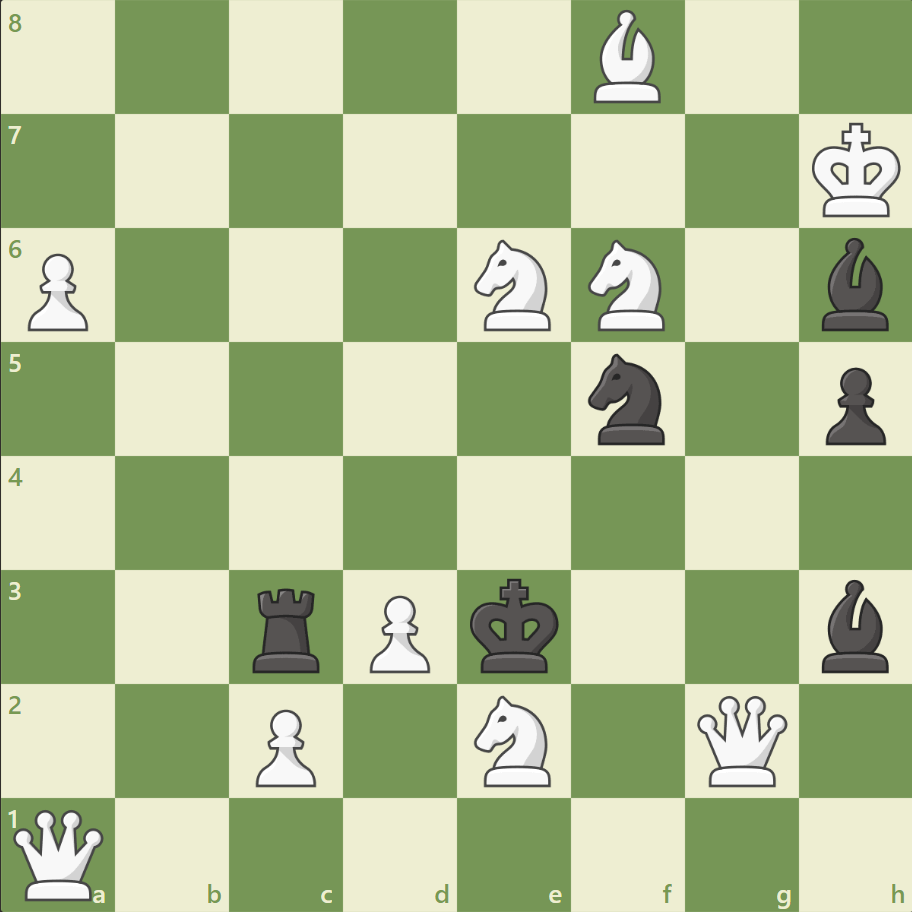B: (585, 6, 669, 109)
K: (806, 117, 906, 225)
N: (465, 234, 562, 337), (579, 234, 676, 337), (465, 688, 562, 791)
P: (20, 246, 95, 337), (247, 700, 322, 791), (361, 586, 435, 677)
Q: (691, 690, 790, 789), (10, 804, 109, 903)
b: (812, 233, 896, 336), (812, 574, 896, 676)
k: (465, 571, 565, 679)
n: (579, 348, 676, 450)
p: (815, 359, 889, 450)
r: (246, 579, 329, 676)
